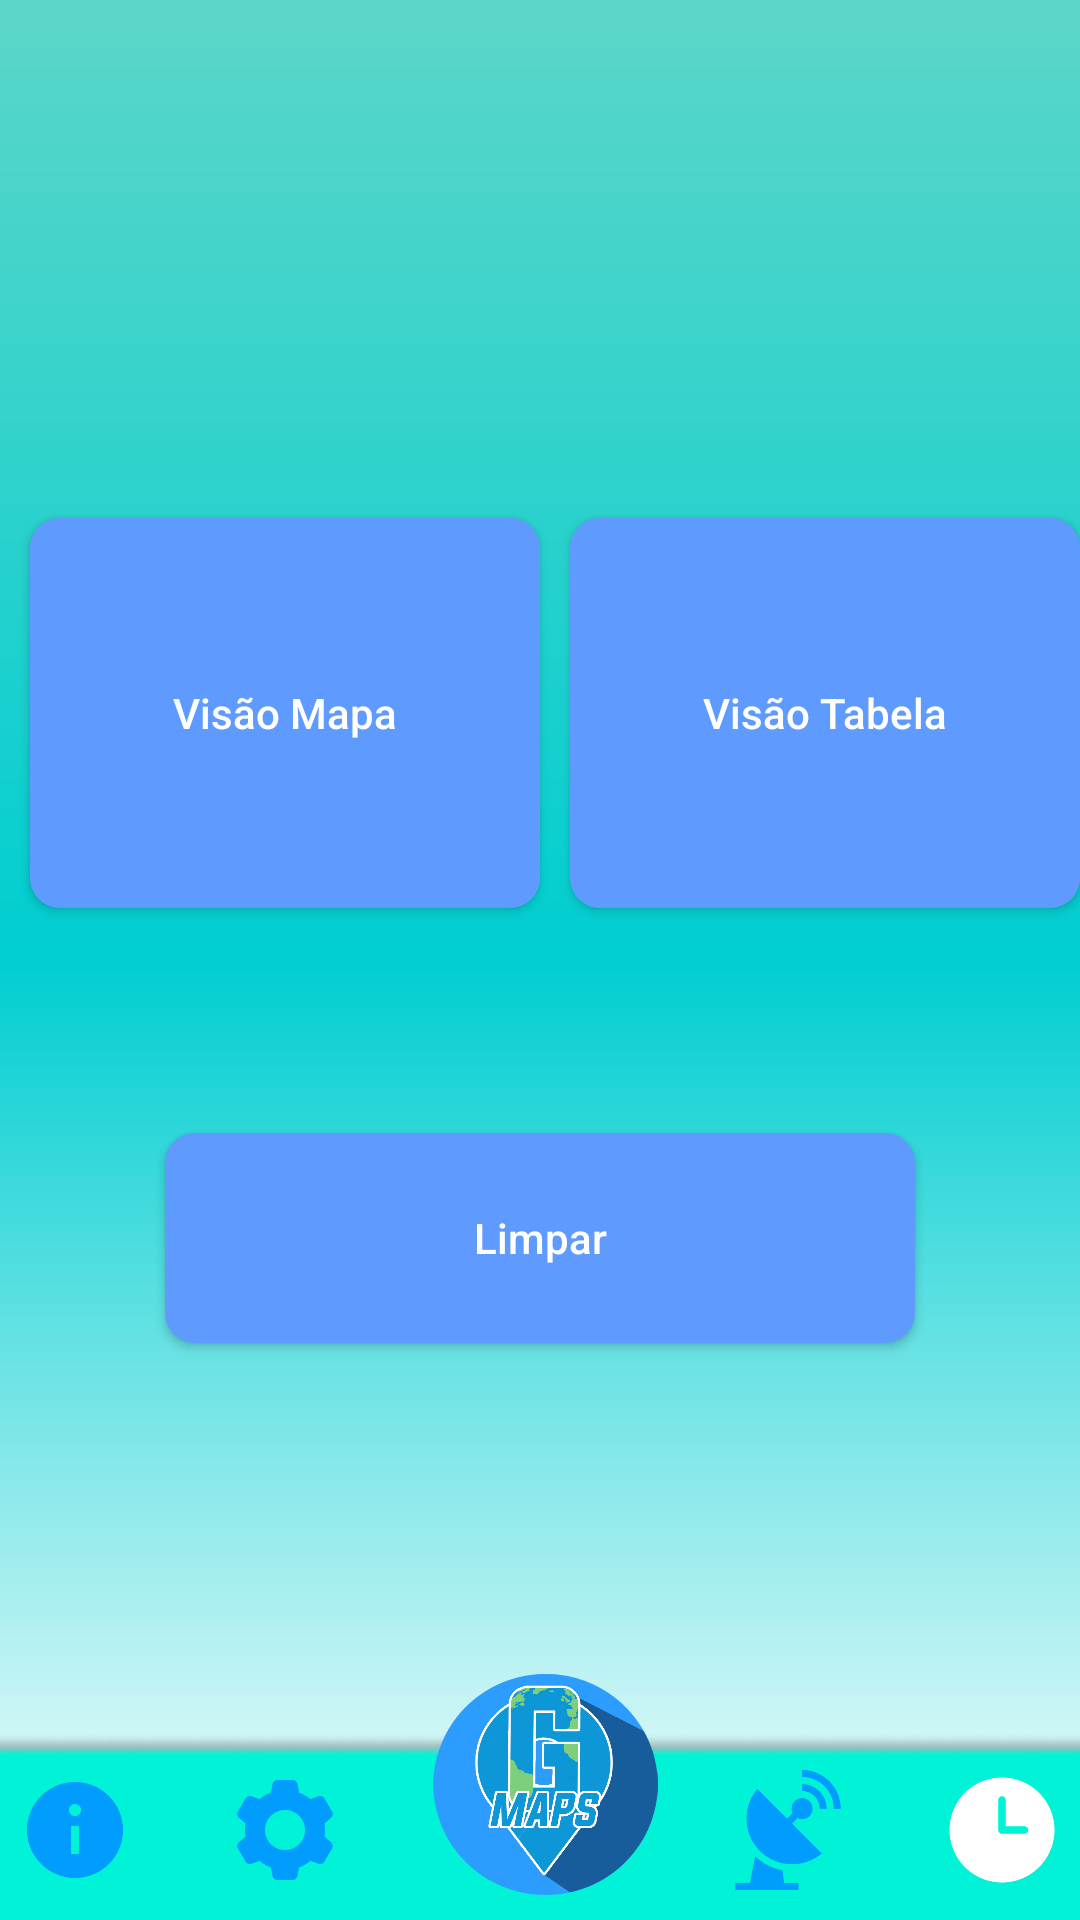

Icon bounding boxes for this 1080 × 1920 phone screenshot, format region(x1, y1, x2, y2):
confblue: region(237, 1780, 333, 1880)
historywhite: region(949, 1777, 1055, 1883)
infoblue: region(27, 1782, 123, 1878)
satelliteblue: region(735, 1770, 841, 1890)
